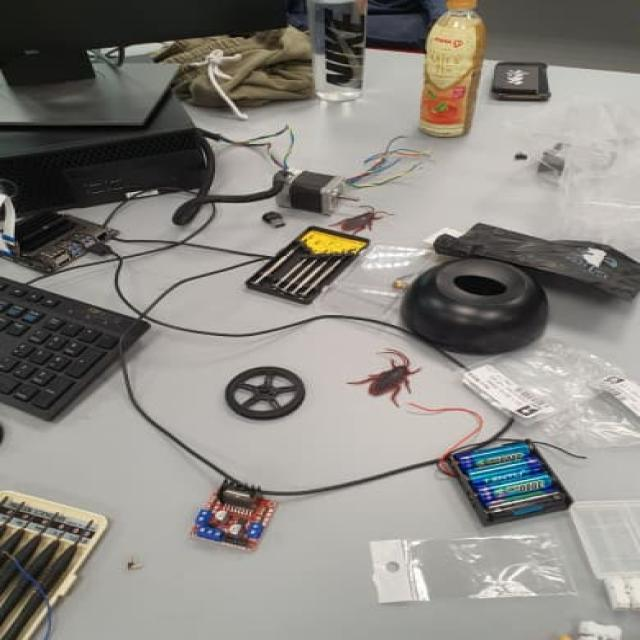Cockroach: (344, 347, 426, 404), (325, 198, 392, 236)
